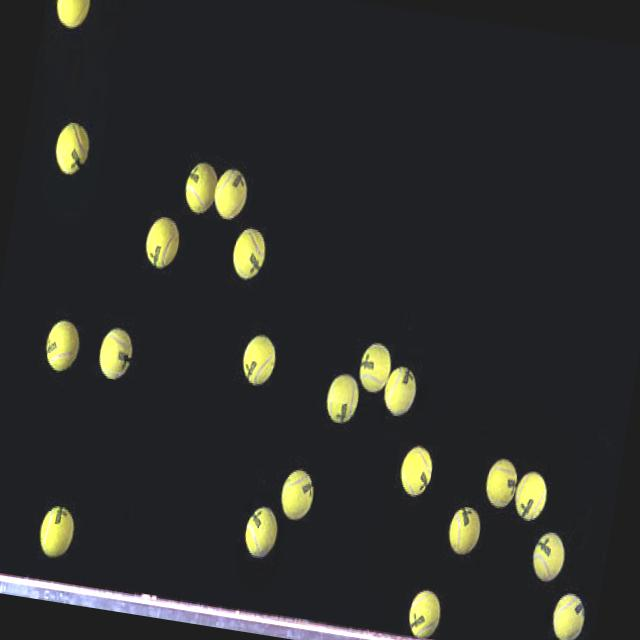Tennis Ball: (38, 506, 74, 560), (144, 218, 180, 271), (279, 470, 314, 524), (44, 321, 79, 375), (232, 228, 266, 283), (55, 124, 90, 177), (98, 329, 133, 382), (213, 169, 248, 222), (241, 336, 276, 388), (382, 367, 417, 419), (446, 507, 481, 558), (531, 534, 565, 586), (244, 508, 277, 561), (399, 447, 433, 498), (325, 375, 359, 426), (184, 163, 218, 214), (407, 591, 441, 640), (486, 459, 518, 511), (359, 343, 392, 393), (515, 473, 547, 522), (552, 596, 584, 640), (55, 0, 90, 30)
